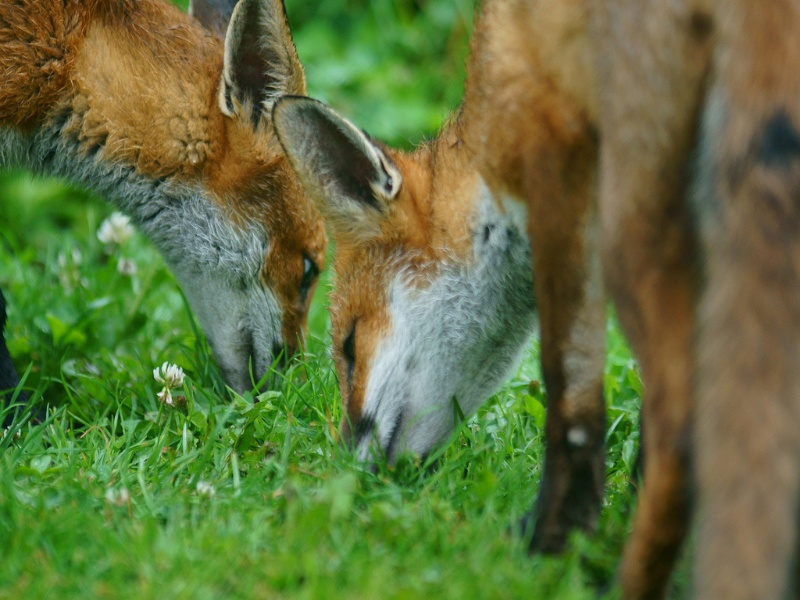fox: (254, 1, 797, 600), (1, 1, 325, 407)
